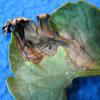Tomato leaf late blight: (1, 1, 99, 98)
